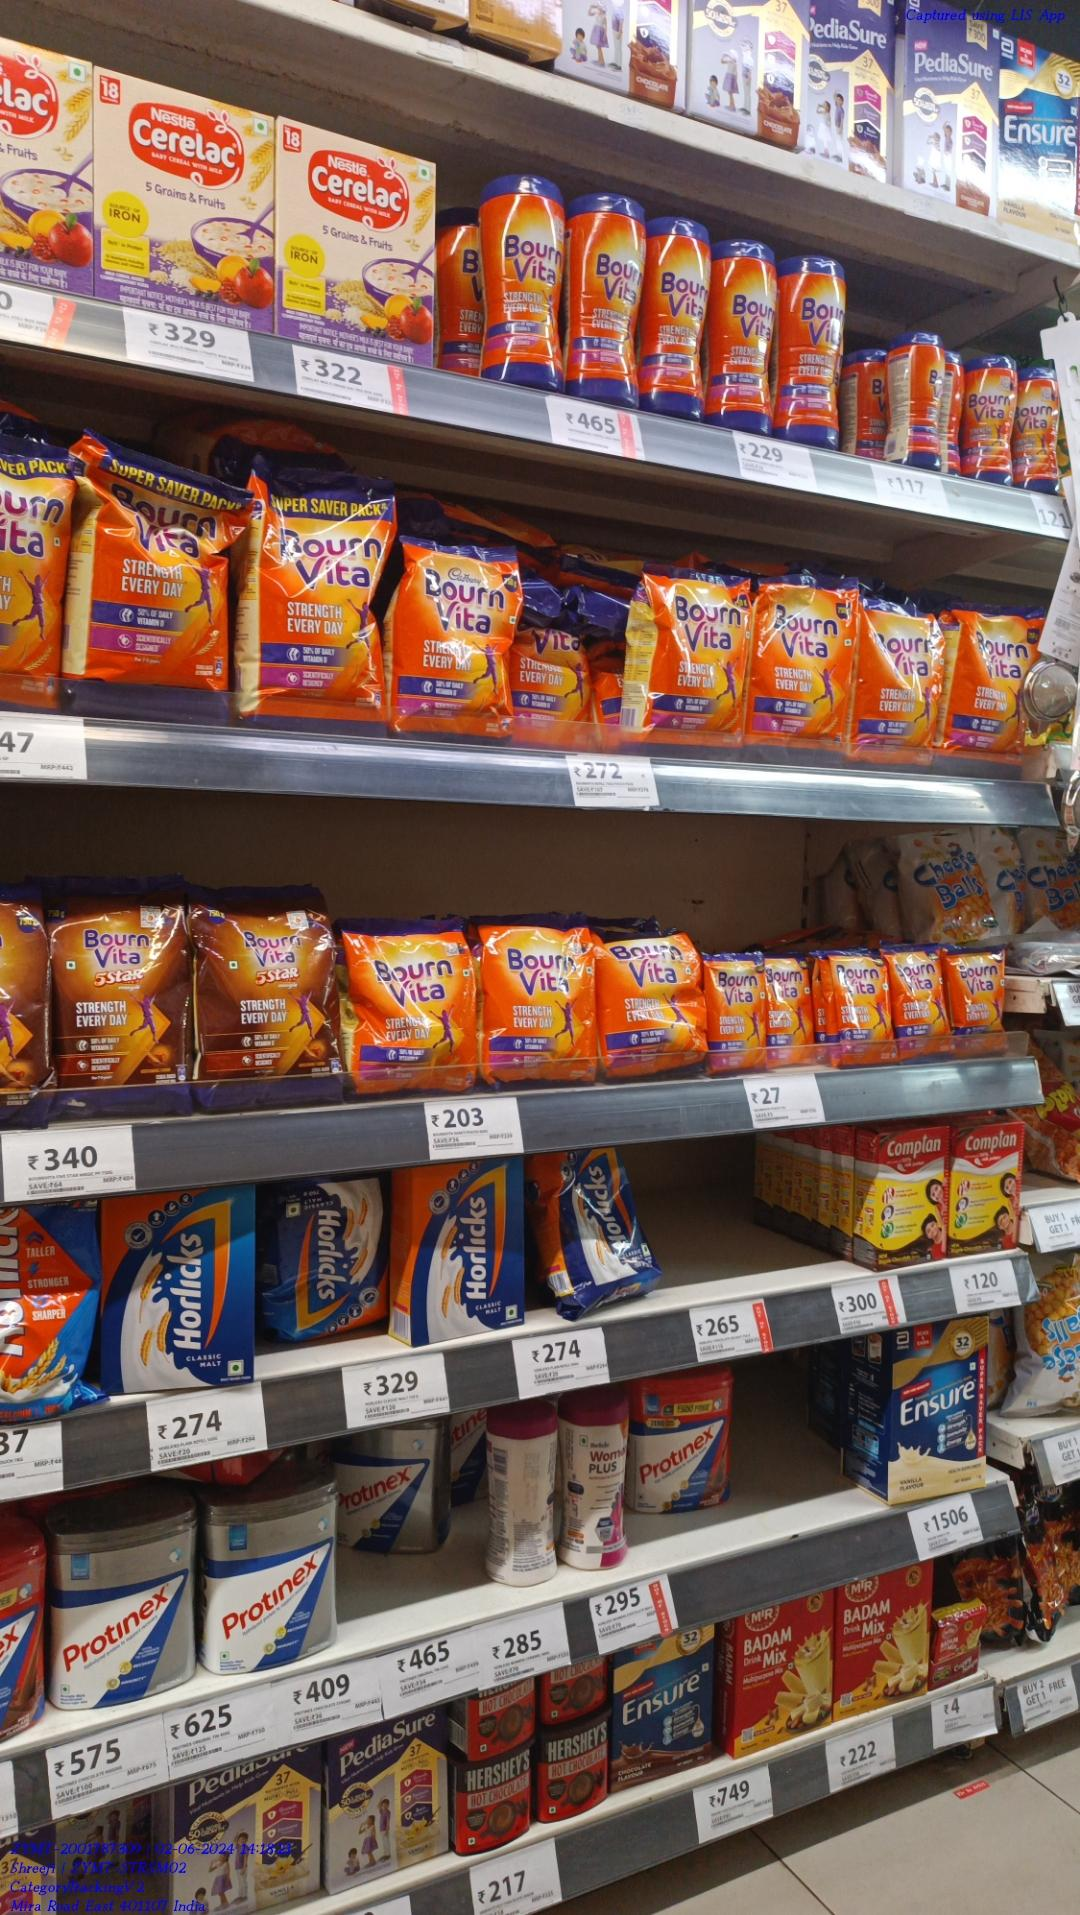HORLICK_CLASSIC_MALT_500_G_PACK: (112, 1180, 253, 1399)
PEDIASURE_CHOCOLATE_500_G_PACK: (910, 5, 993, 209)
PEDIASURE_VANILLA_500_G_PACK: (318, 1732, 451, 1873), (183, 1785, 310, 1914)
PROTINEX_ORIGINAL_400_G_JAR: (45, 1510, 192, 1709), (203, 1493, 338, 1662)
